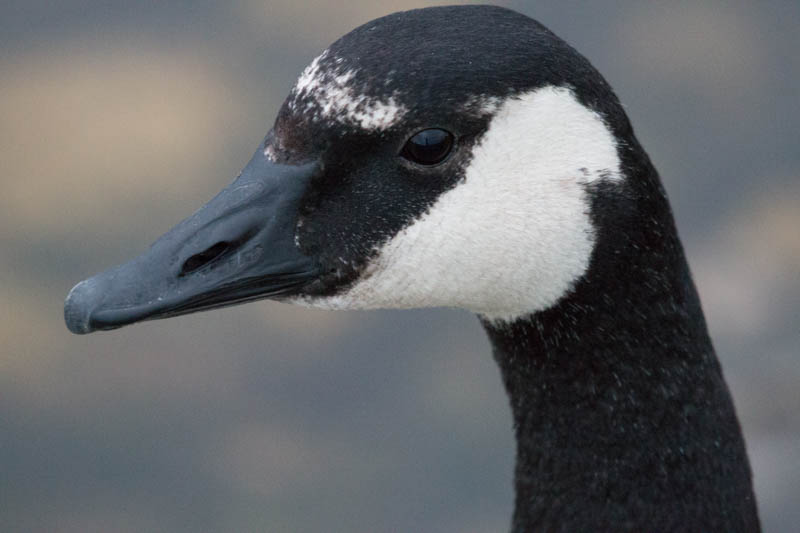goose-head: (61, 4, 662, 336)
